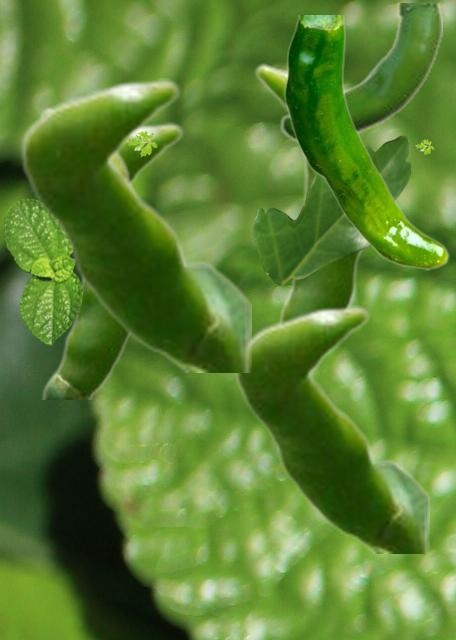green_chili: (20, 78, 250, 371), (234, 305, 428, 552), (284, 15, 448, 269), (39, 106, 139, 398), (254, 62, 367, 320), (279, 3, 441, 144), (123, 122, 189, 259)
